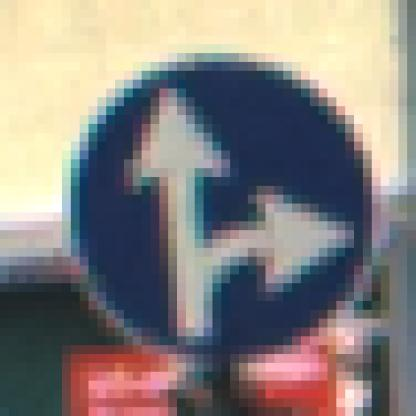Straight or Right: (45, 45, 373, 373)
